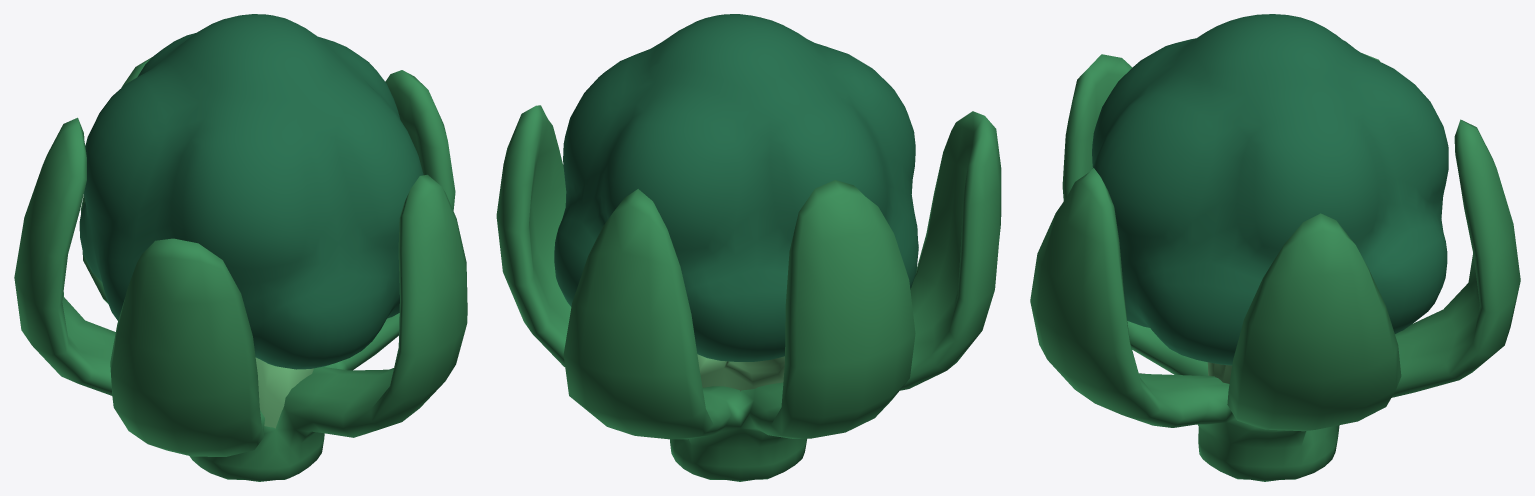
Rendered from Broccoli_06.dae.
3 views of the same model, side by side, from view 1: azimuth 30°, elevation 25°; view 2: azimuth 150°, elevation 25°; view 3: azimuth 270°, elevation 25° (orthographic).
Visible parts, largest first — view 1: Broccoli_06_LOD0; view 2: Broccoli_06_LOD0; view 3: Broccoli_06_LOD0.
Boxes of the visible parts, x1=… form: Broccoli_06_LOD0: x1=14, y1=14, x2=467, y2=481; Broccoli_06_LOD0: x1=496, y1=14, x2=1001, y2=481; Broccoli_06_LOD0: x1=1030, y1=14, x2=1520, y2=481.
Size of what is drawn, in the model's own units: 6.38 by 6.65 by 6.58.
